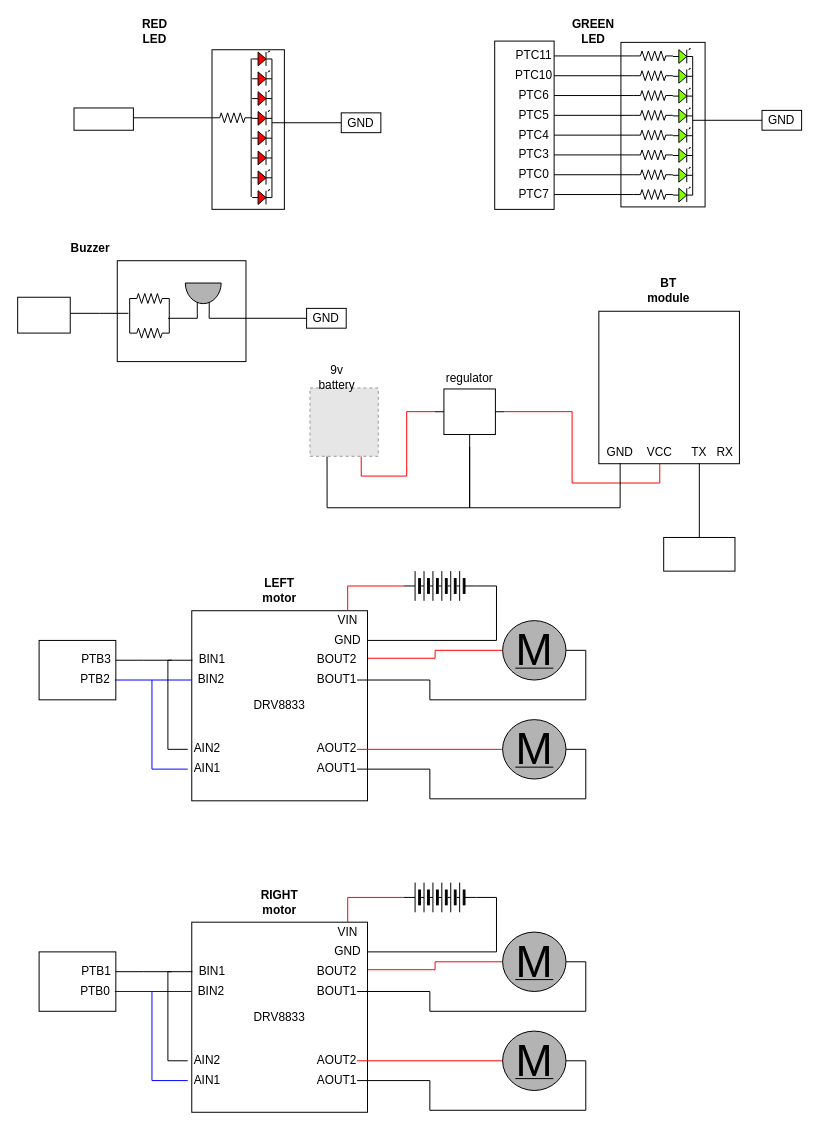
Image size: 819x1130. Some labels were removed from this diagram. Grey dashed boxes stand in for pictures. Here are the shapes that lost their labels. From the top down, the centre of each, then its label:
the point at 103,118: PTC9
the point at 43,314: PTC1 PWM
the point at 699,553: PTE23 RX
